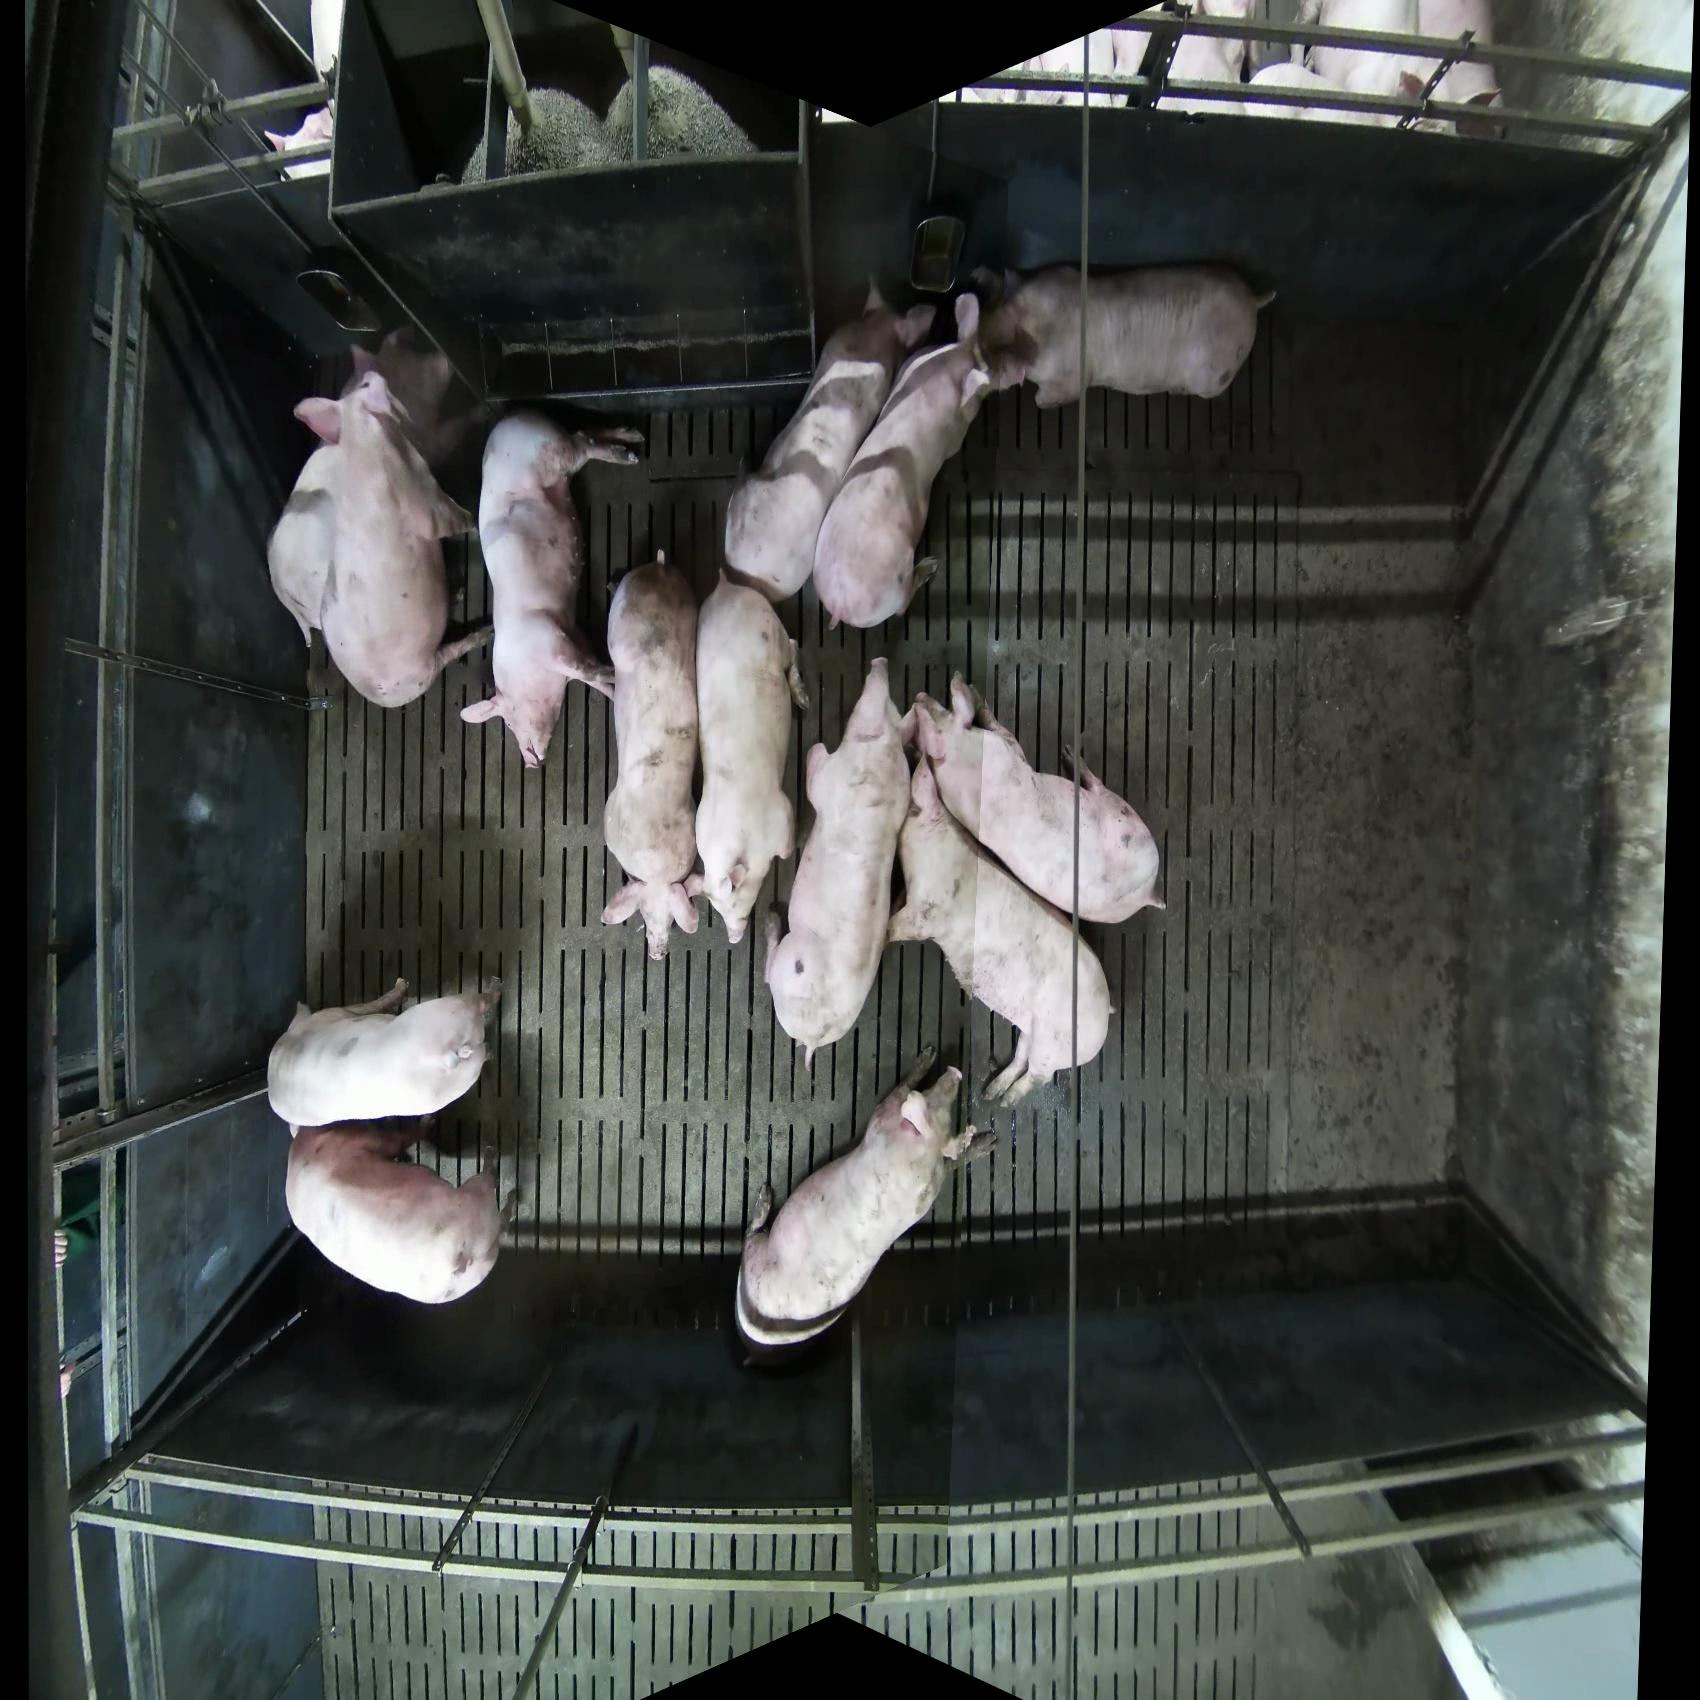pig: (889, 746, 1115, 1110), (266, 366, 490, 711), (733, 1062, 999, 1350), (722, 274, 939, 604), (458, 405, 646, 771), (909, 669, 1168, 926), (763, 657, 915, 1071), (811, 290, 996, 630), (967, 258, 1280, 409), (283, 1113, 520, 1308), (693, 567, 810, 947), (599, 553, 702, 961), (265, 975, 504, 1130), (1245, 2, 1505, 139), (602, 64, 760, 165), (1404, 2, 1505, 140), (347, 322, 455, 448), (501, 87, 620, 177), (1164, 2, 1253, 117)
